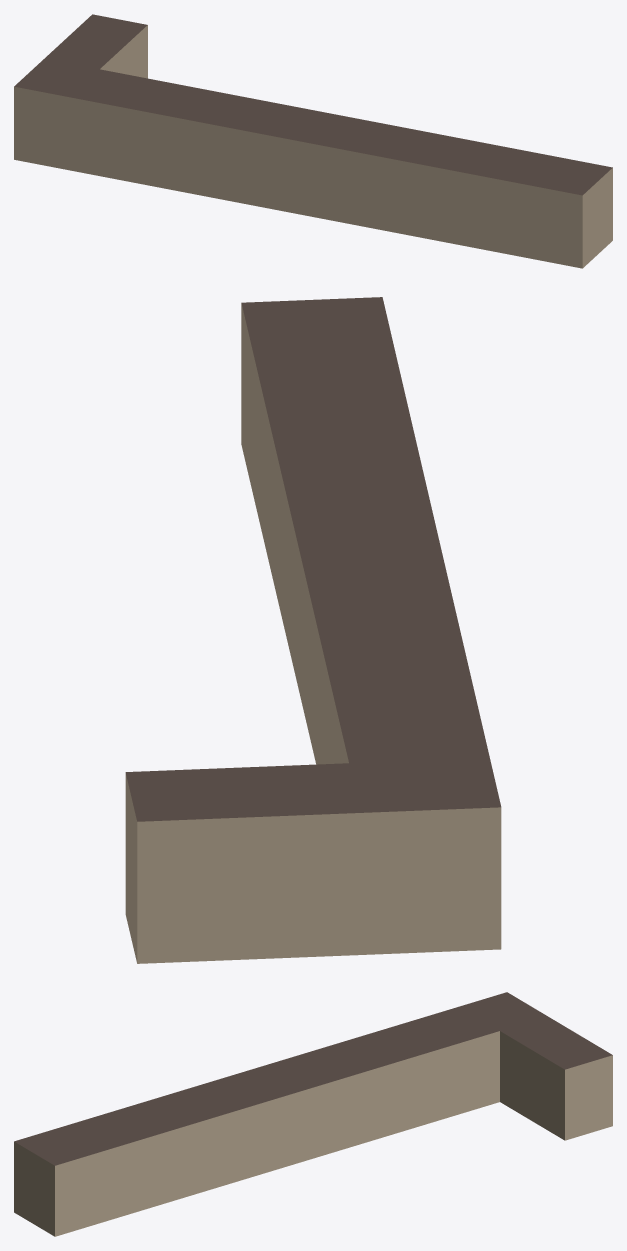
The picture shows the model from 3 angles, top to bottom: view 1: azimuth 30°, elevation 25°; view 2: azimuth 150°, elevation 25°; view 3: azimuth 270°, elevation 25°; orthographic projection. The views are drawn at different scales.
Parts seen in each view (by area): view 1: HP-w1286954509; view 2: HP-w1286954509; view 3: HP-w1286954509.
Boxes of the visible parts, x1,y1,x2,y2 form: HP-w1286954509: (14, 14, 612, 268); HP-w1286954509: (125, 297, 501, 963); HP-w1286954509: (14, 992, 612, 1236).
Size of the model in its own units: 47.19 by 9 by 68.76.
